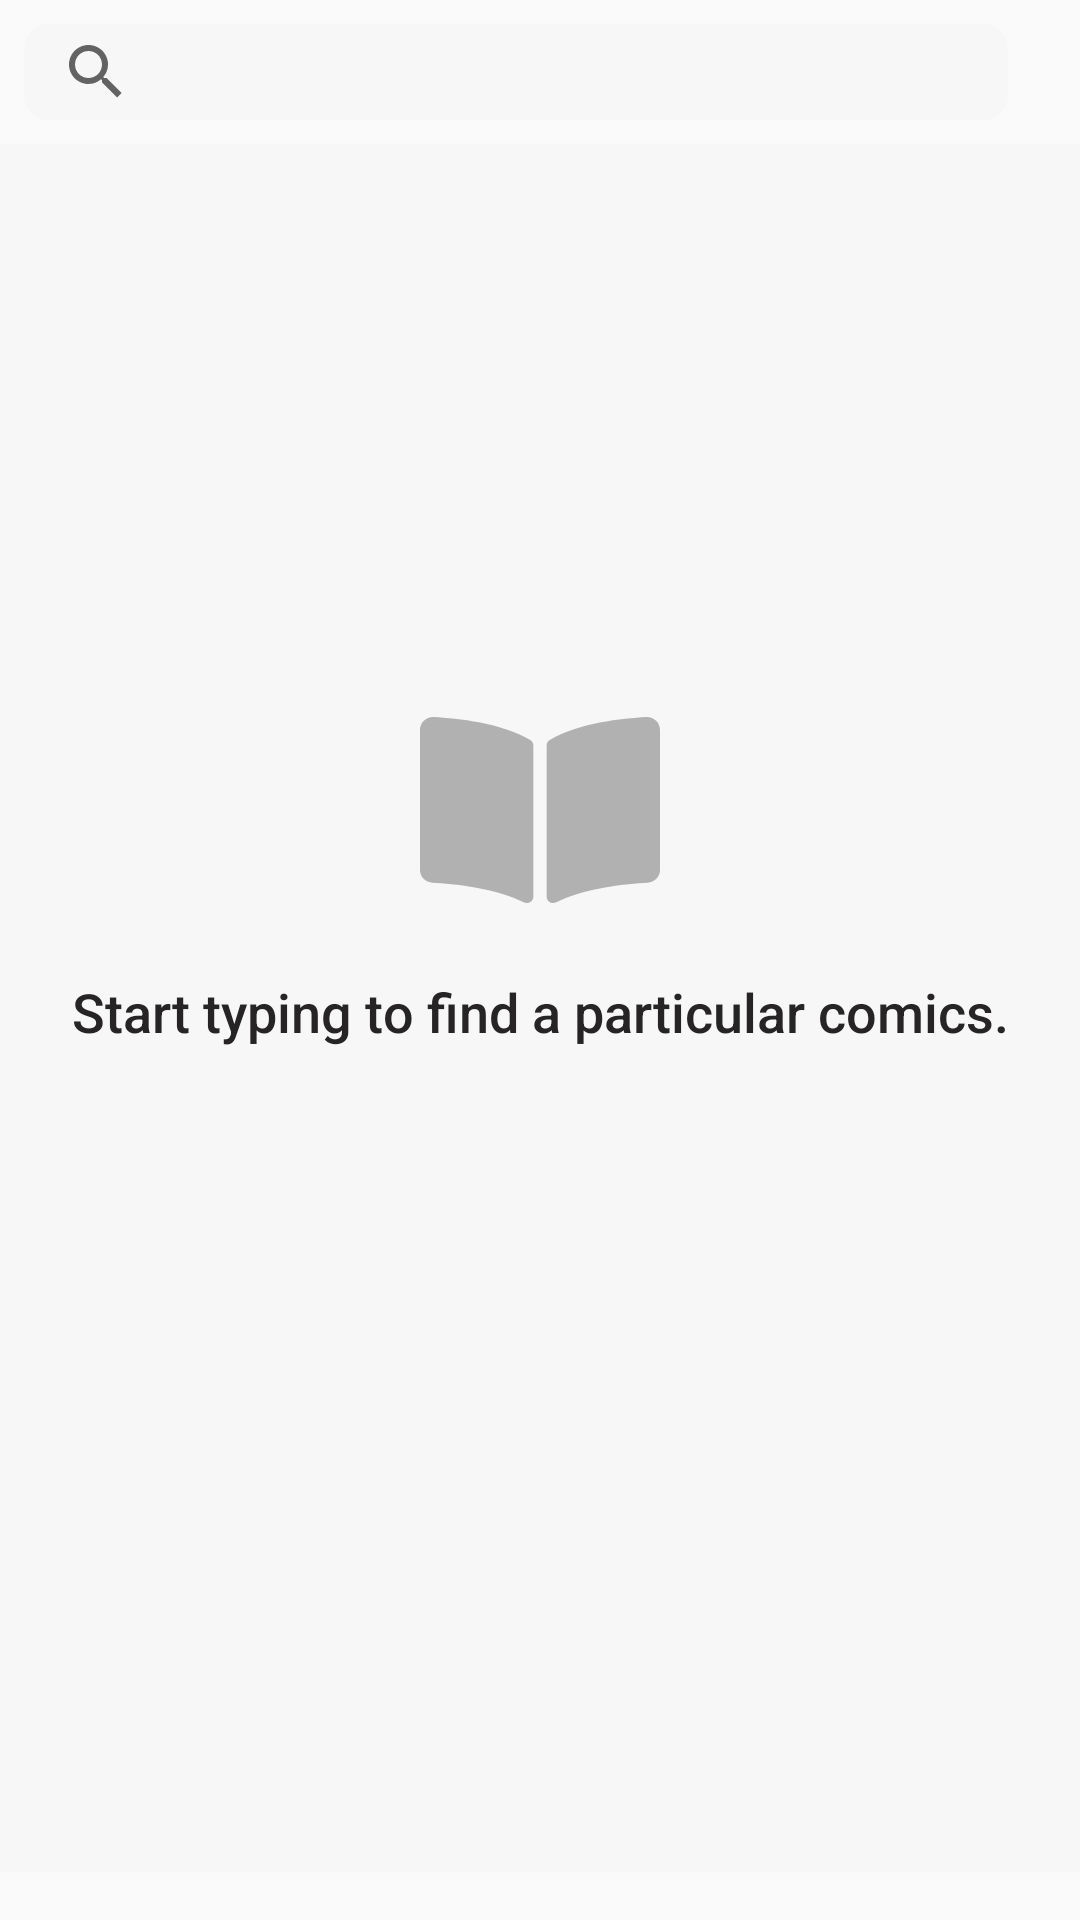

Screen size 1080px×1920px. Icon name, then its center in pixels as (x,y):
book open: (540,810)
